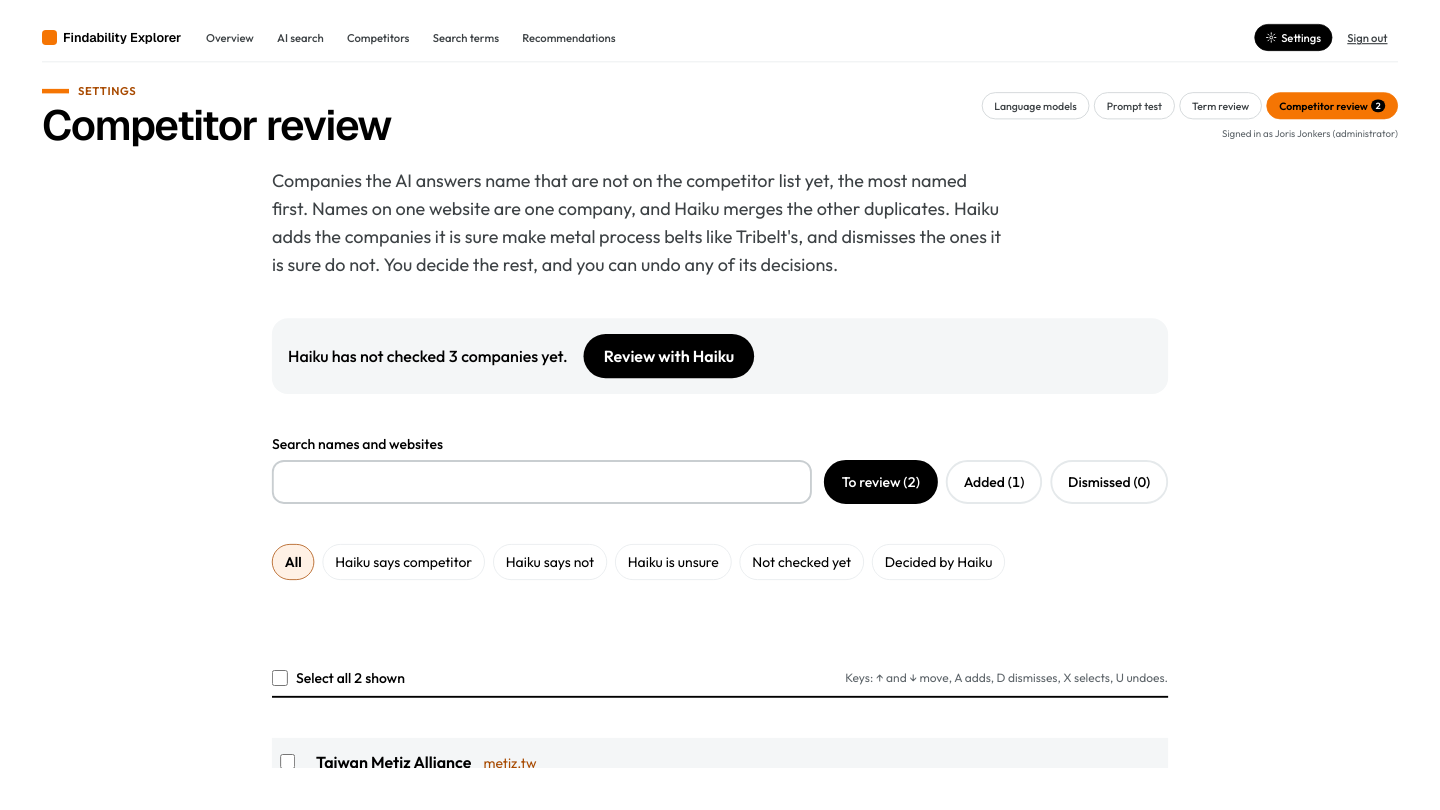
the competitor review › adds or dismisses several at once, and says which it skipped
The width and height of the screenshot is (1440, 810).
Click the checkbox labelled "Select all 2 shown". click: x=280, y=678
box: [272,670,288,686]
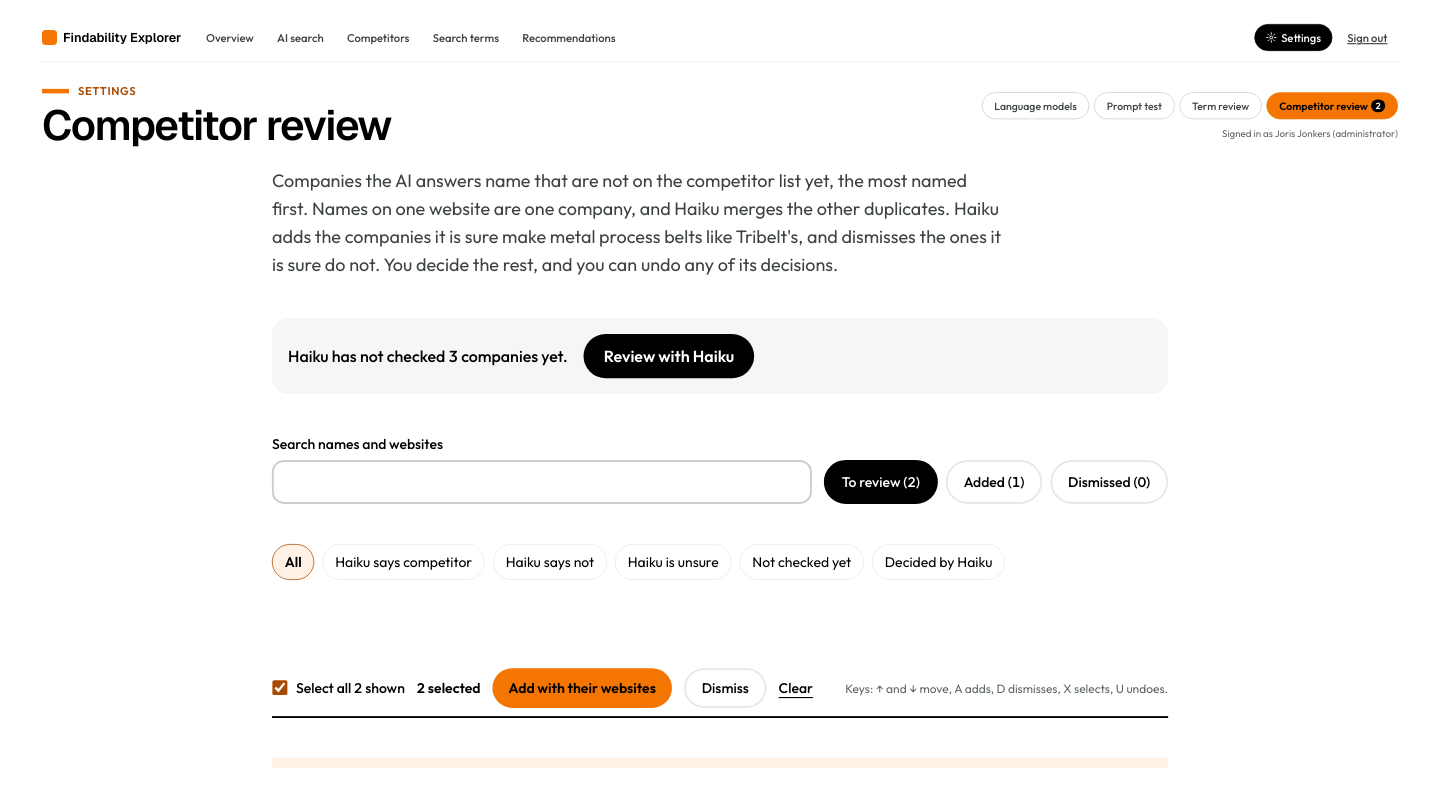
Expected: the text "2 selected" is shown, [417,678,481,698]
Click the button "Add with their websites". click: x=582, y=688
box: [492,668,672,708]
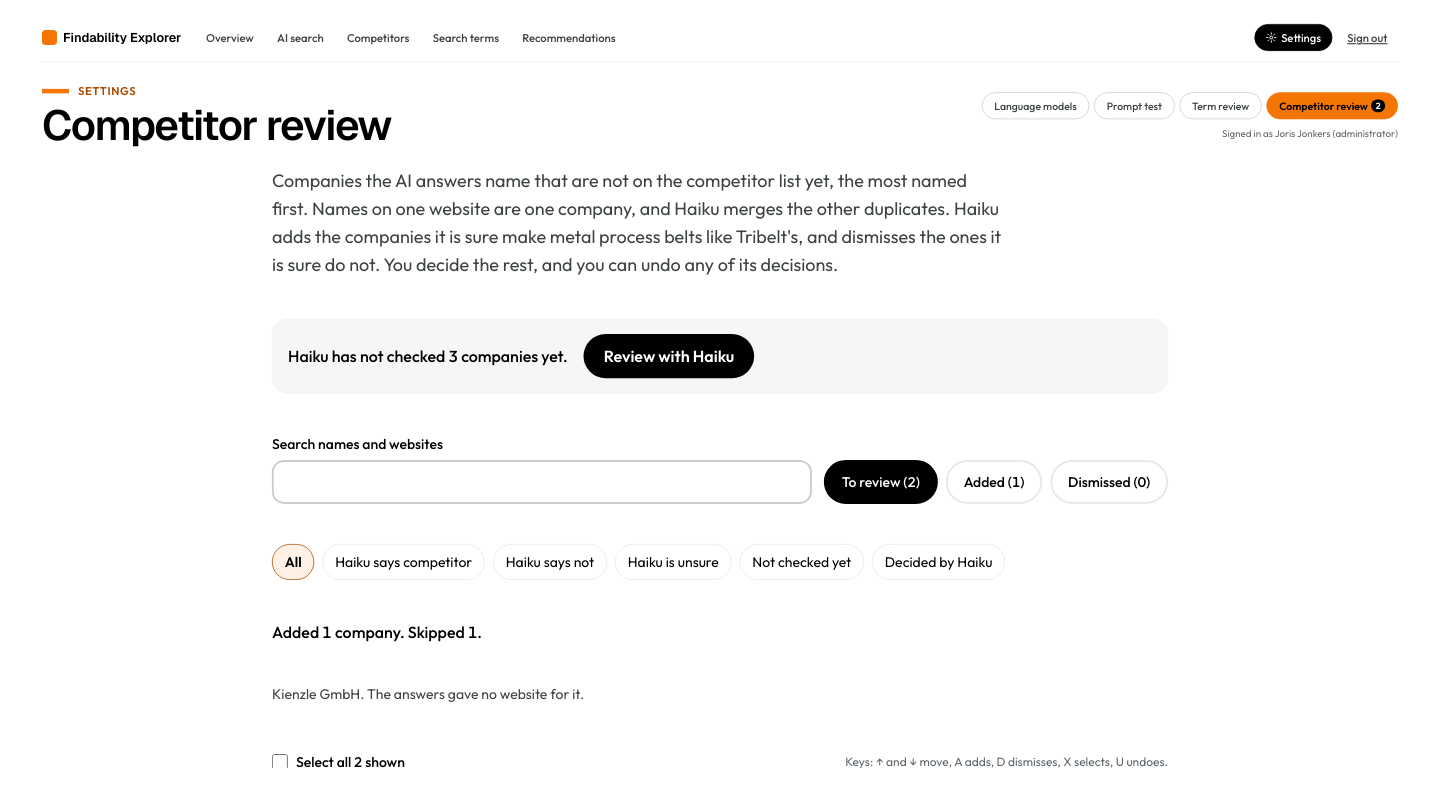
Expected: the text "Added 1 company. Skipped 1." is shown, [272,622,482,642]
Expected: the list named "Skipped" reads "Kienzle GmbH. The answers gave no website for it.", [272,685,584,703]
Expected: the text "selected" is gone
